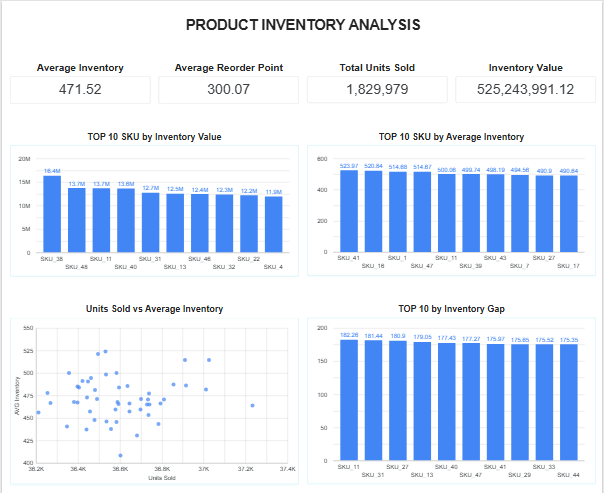

The page's visual inventory and layout, read from the dashboard file:
{"tool":"powerbi","page":{"name":"Product Inventory Analysis","canvas":[1280,720],"ordinal":1},"visuals":[{"type":"textbox","box":[0,0,1280,81.1],"z":0},{"type":"card","title":"Total Inventory Value","fields":{"Values":["Sum(retail_sales vw_product_inventory.Inventory Value)"]},"box":[12.5,79.6,233.3,75],"z":1000},{"type":"card","title":"Total Order Quantity","fields":{"Values":["Sum(retail_sales vw_product_inventory.Order Quantity)"]},"box":[725.9,79.6,215.6,75],"z":2000},{"type":"card","title":"Stockout Observations","fields":{"Values":["Sum(retail_sales vw_product_inventory.Stockout Flag)"]},"box":[1051.4,79.6,218.9,75],"z":3000},{"type":"card","title":"Total Units Sold","fields":{"Values":["Sum(retail_sales vw_product_inventory.Units Sold)"]},"box":[334.8,79.6,245.6,75],"z":4000},{"type":"clusteredBarChart","title":"Top 10 Products by Inventory Value","fields":{"Y":["Sum(retail_sales vw_product_inventory.Inventory Value)"],"Category":["retail_sales vw_product_inventory.SKU"]},"box":[0,156.8,640.5,290],"z":5000},{"type":"scatterChart","title":"Inventory Value vs Units Sold","fields":{"X":["Sum(retail_sales vw_product_inventory.Units Sold)"],"Y":["Sum(retail_sales vw_product_inventory.Inventory Value)"],"Category":["retail_sales vw_product_inventory.SKU"]},"box":[640,156.2,640,291.2],"z":6000},{"type":"clusteredBarChart","title":"Top 10 Products by Order Quantity","fields":{"Category":["retail_sales vw_product_inventory.SKU"],"Y":["Sum(retail_sales vw_product_inventory.Order Quantity)"]},"box":[0,447.3,639.2,273],"z":7000},{"type":"clusteredBarChart","title":"Top 10 Products with  Highest Inventory Gap","fields":{"Category":["retail_sales vw_product_inventory.SKU"],"Y":["retail_sales vw_product_inventory.Avg Inventory Gap"]},"box":[640,447.1,640,272.9],"z":8000}]}

Visuals, with their boxes on the page's 1280x720 design canvas (x1, y1, x2, y2). These are canvas units, not pixel positions in the 604x493 screenshot, which may show the page scaled, cropped or inside an application window:
textbox: box(0, 0, 1280, 81)
"Total Inventory Value" card: box(12, 80, 246, 155)
"Total Order Quantity" card: box(726, 80, 942, 155)
"Stockout Observations" card: box(1051, 80, 1270, 155)
"Total Units Sold" card: box(335, 80, 580, 155)
"Top 10 Products by Inventory Value" clusteredBarChart: box(0, 157, 640, 447)
"Inventory Value vs Units Sold" scatterChart: box(640, 156, 1280, 447)
"Top 10 Products by Order Quantity" clusteredBarChart: box(0, 447, 639, 720)
"Top 10 Products with  Highest Inventory Gap" clusteredBarChart: box(640, 447, 1280, 720)
